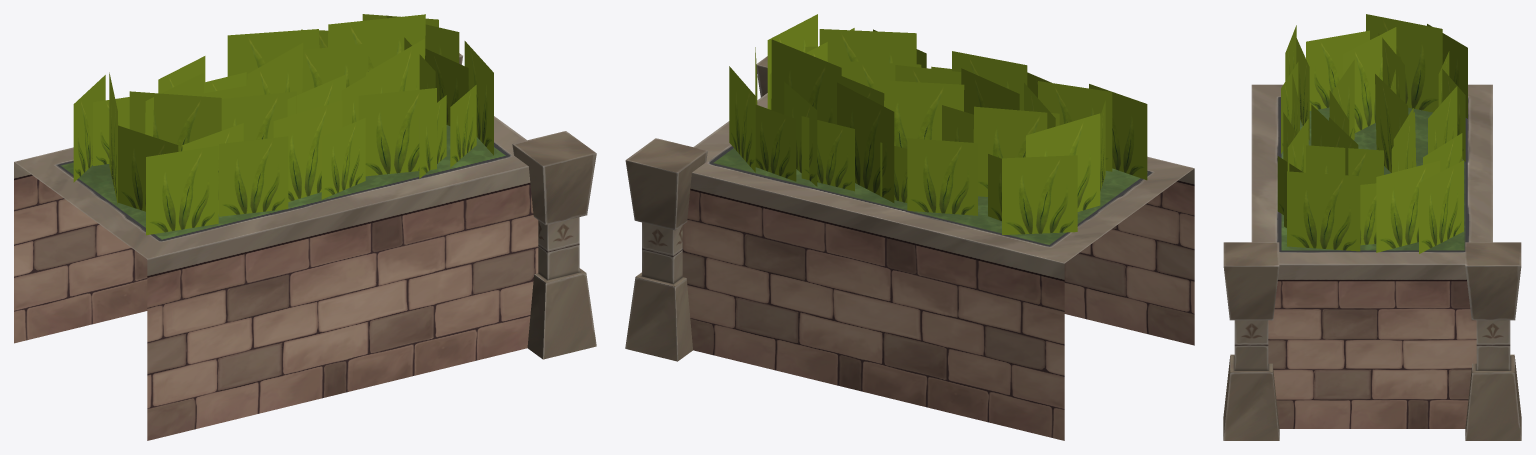
Rendered from wallGrass_simple_modular.fbx.
3 renders of one model, left to right at view 1: azimuth 30°, elevation 25°; view 2: azimuth 150°, elevation 25°; view 3: azimuth 270°, elevation 25°, orthographic. The views are drawn at different scales.
Parts seen in each view (by area): view 1: polySurface2488; view 2: polySurface2488; view 3: polySurface2488.
Boxes of the visible parts, x1,y1,x2,y2 form: polySurface2488: (14, 14, 596, 440); polySurface2488: (625, 14, 1194, 440); polySurface2488: (1223, 14, 1521, 440).
Bounding box in the file's own units: 7.23 × 4.53 × 4.75.
